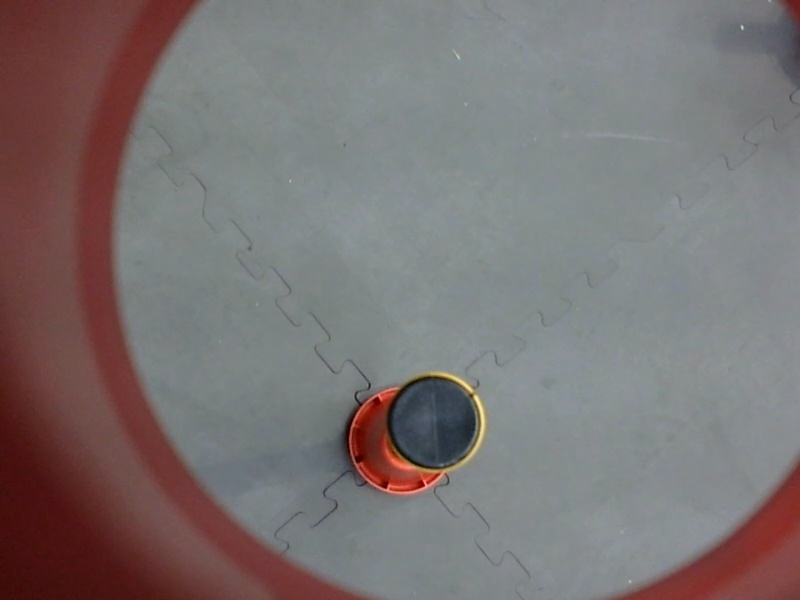tip: (380, 364, 494, 483)
